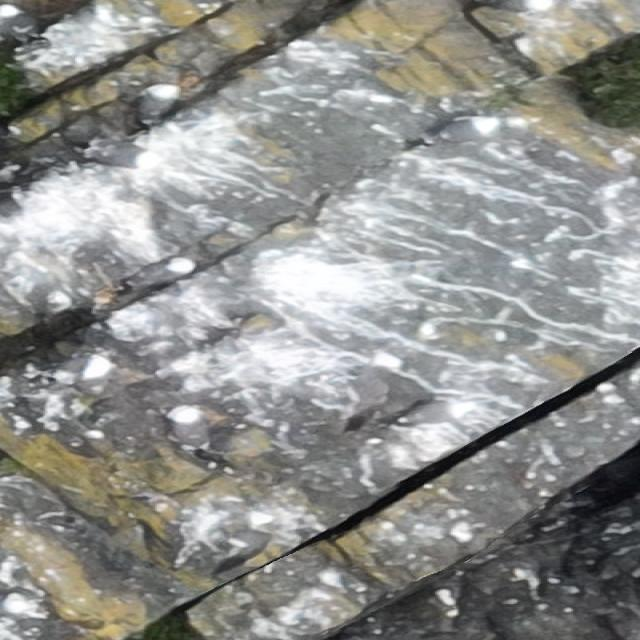umineko: (122, 254, 194, 291), (166, 405, 212, 456), (426, 115, 501, 146), (402, 400, 478, 428), (136, 84, 180, 124)
